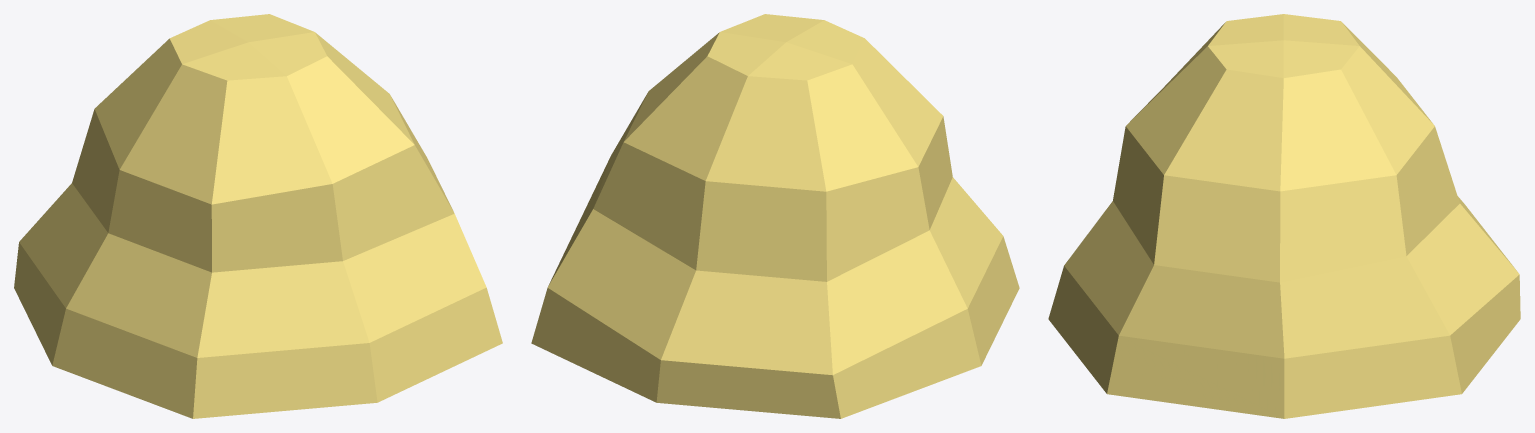
Rendered from Aztec Mining Game Rock.fbx.
3 renders of one model, left to right at view 1: azimuth 30°, elevation 25°; view 2: azimuth 150°, elevation 25°; view 3: azimuth 270°, elevation 25°, orthographic.
Parts seen in each view (by area): view 1: Rock; view 2: Rock; view 3: Rock.
Boxes of the visible parts, x1,y1,x2,y2 form: Rock: (14, 14, 502, 418); Rock: (531, 14, 1019, 418); Rock: (1048, 14, 1520, 418).
Bounding box in the file's own units: 100 × 63.98 × 100.
